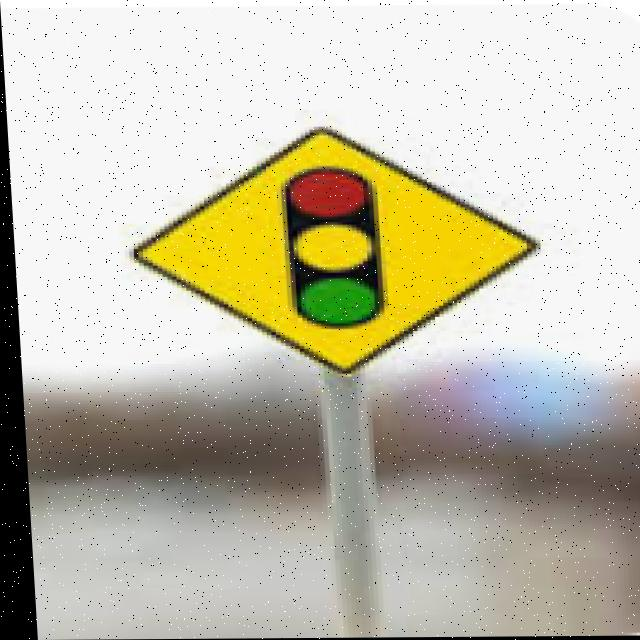light_traffic: (141, 121, 557, 377)
